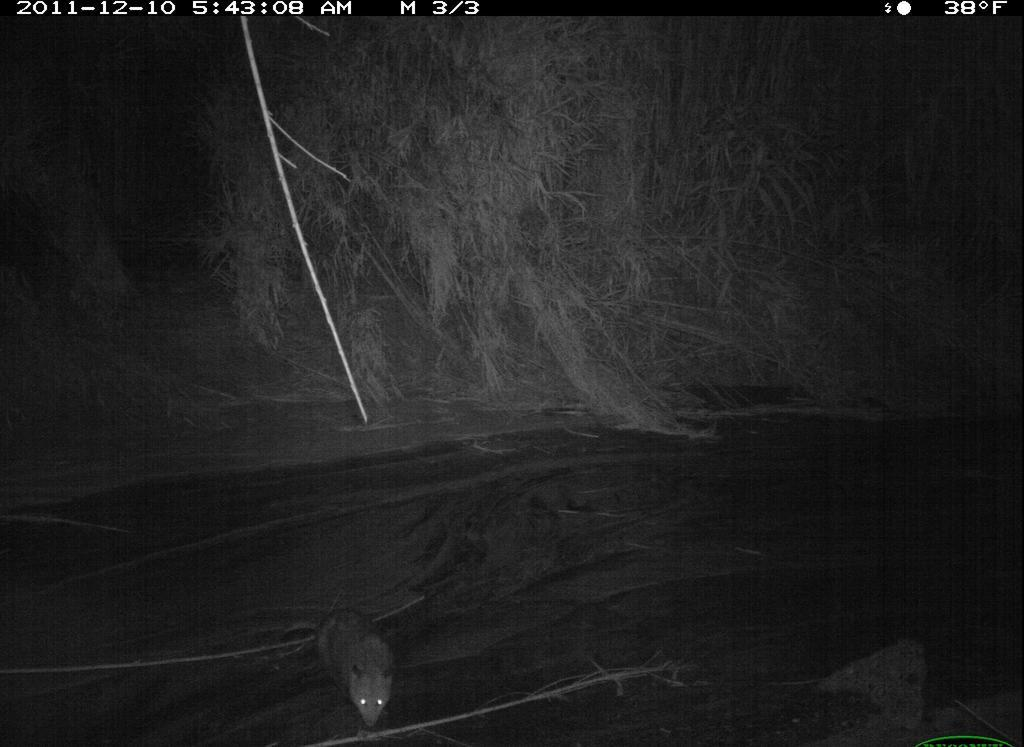opossum: (299, 597, 408, 735)
